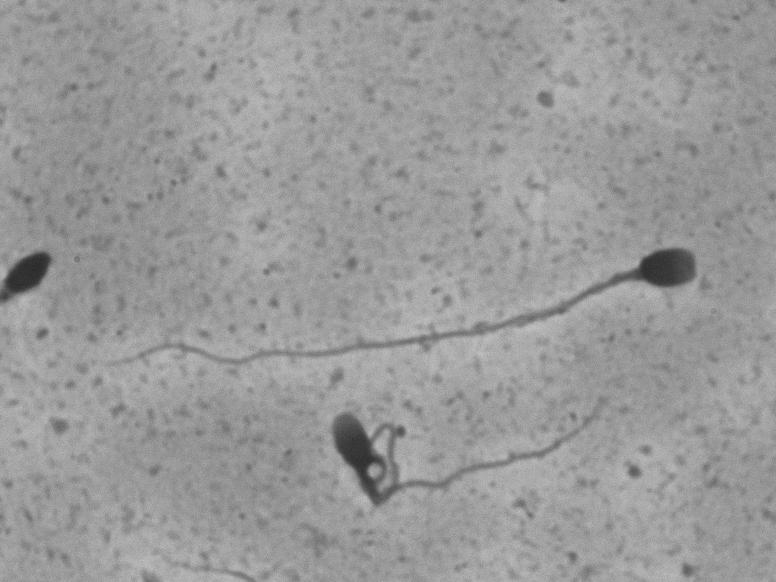Abnormal: (298, 376, 622, 536)
Normal: (72, 186, 724, 388)
